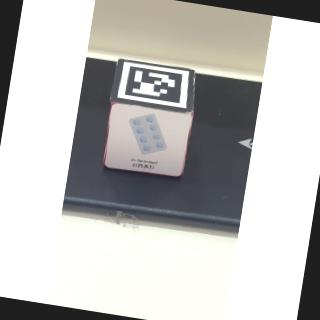Tablet: (105, 99, 194, 183)
